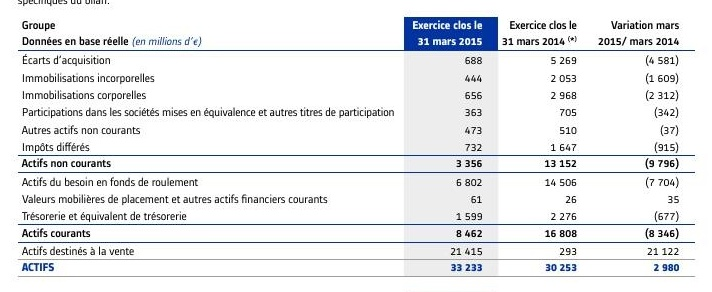table: (0, 0, 712, 292)
